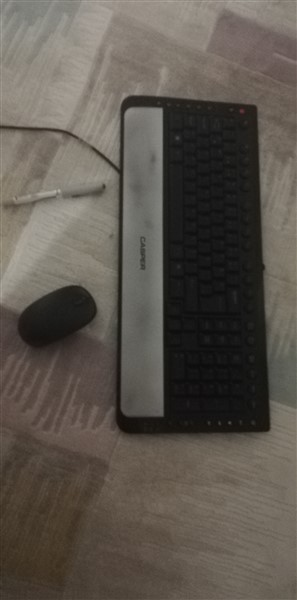klavye: (116, 90, 273, 435)
mouse: (14, 284, 103, 356)
pilot kalem: (3, 176, 108, 216)
